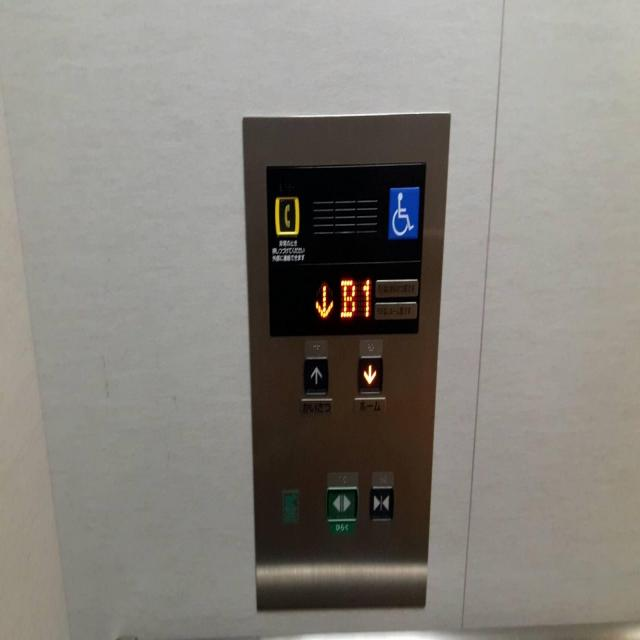CH: (388, 186, 419, 239)
call: (275, 195, 300, 235)
close: (366, 479, 398, 526)
down: (355, 352, 384, 397)
led: (301, 256, 374, 336)
open: (322, 481, 362, 526)
up: (302, 354, 330, 397)
